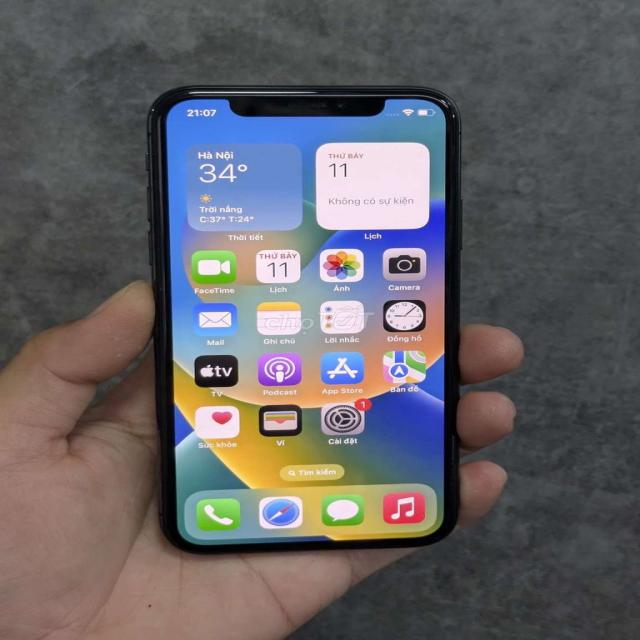gen_x_xs: (139, 75, 463, 556)
